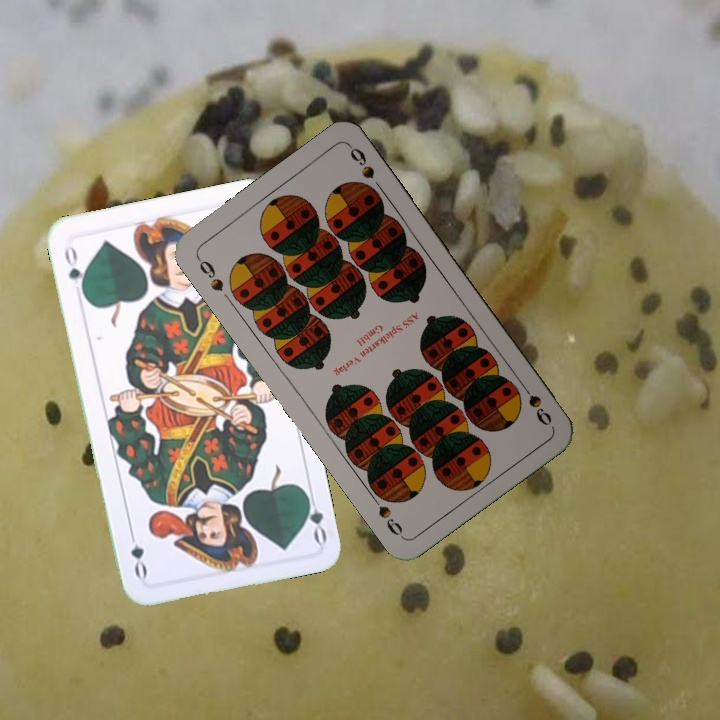GO: (300, 486, 330, 546), (60, 242, 88, 298)
S9: (515, 376, 555, 429), (193, 252, 226, 294)
